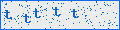t: (71, 9, 80, 19), (53, 7, 62, 17), (33, 8, 42, 18), (4, 10, 12, 20), (23, 14, 31, 23)
